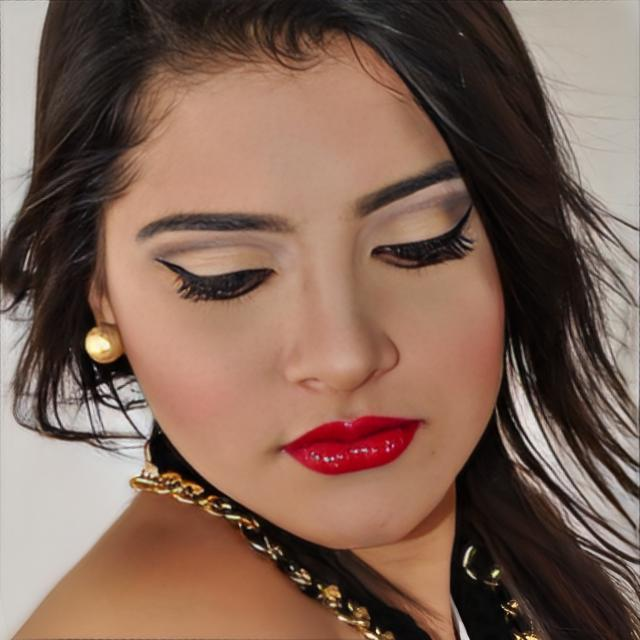neutral: (115, 39, 508, 550)
